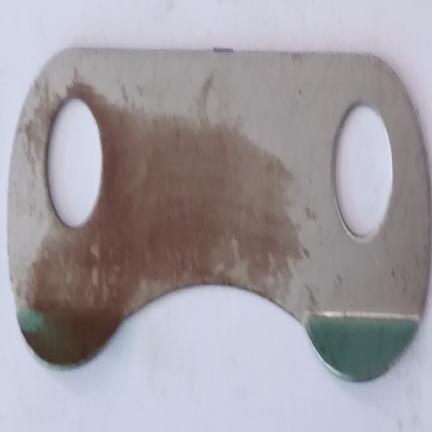karat: (14, 75, 311, 364)
